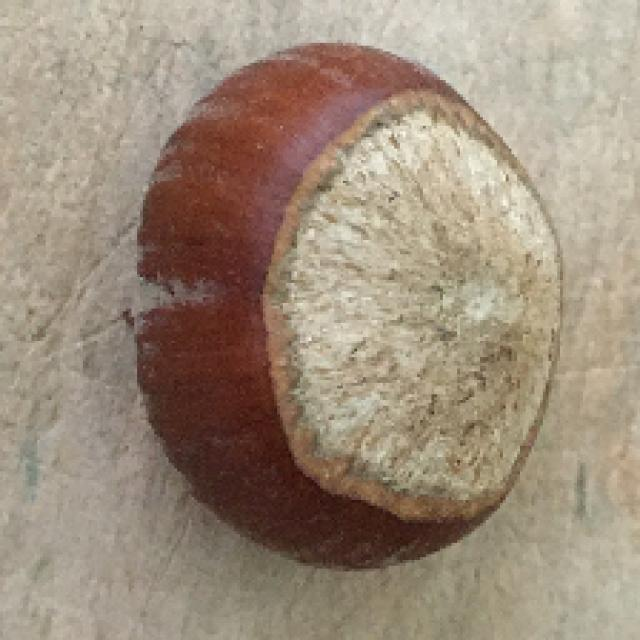qualityHazelnut: (119, 33, 563, 582)
